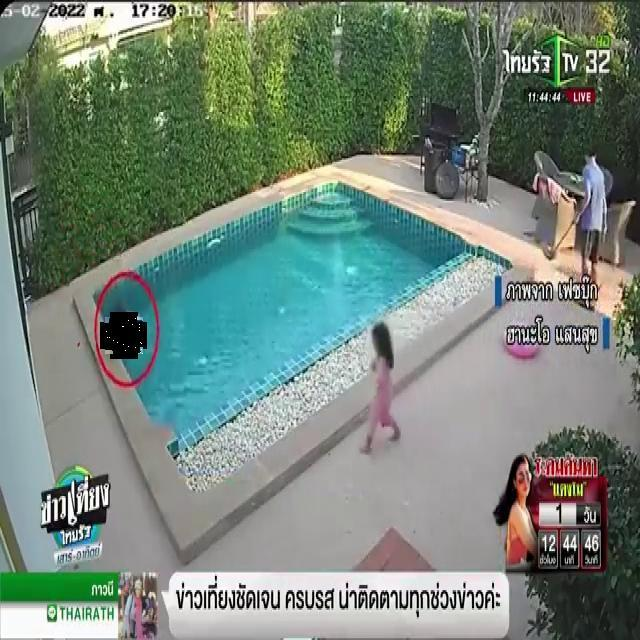Out of Water: (105, 317, 143, 354)
